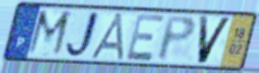A: (88, 12, 127, 62)
E: (124, 12, 167, 63)
J: (63, 9, 102, 61)
M: (24, 7, 74, 59)
P: (156, 15, 197, 63)
V: (196, 14, 234, 66)
